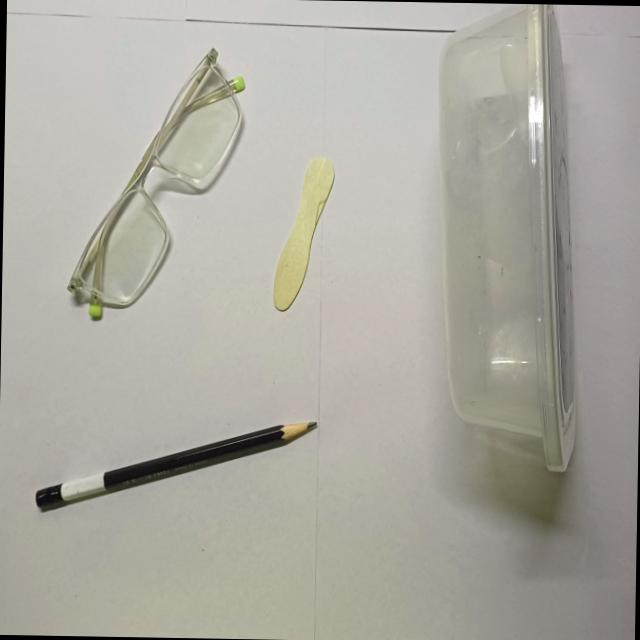Pencil-Bio: (29, 411, 320, 519)
Plastic-NonBio: (428, 2, 586, 479)
Spectacles-NonBio: (63, 43, 248, 324)
Wooden Spoon-Bio: (268, 155, 335, 313)
